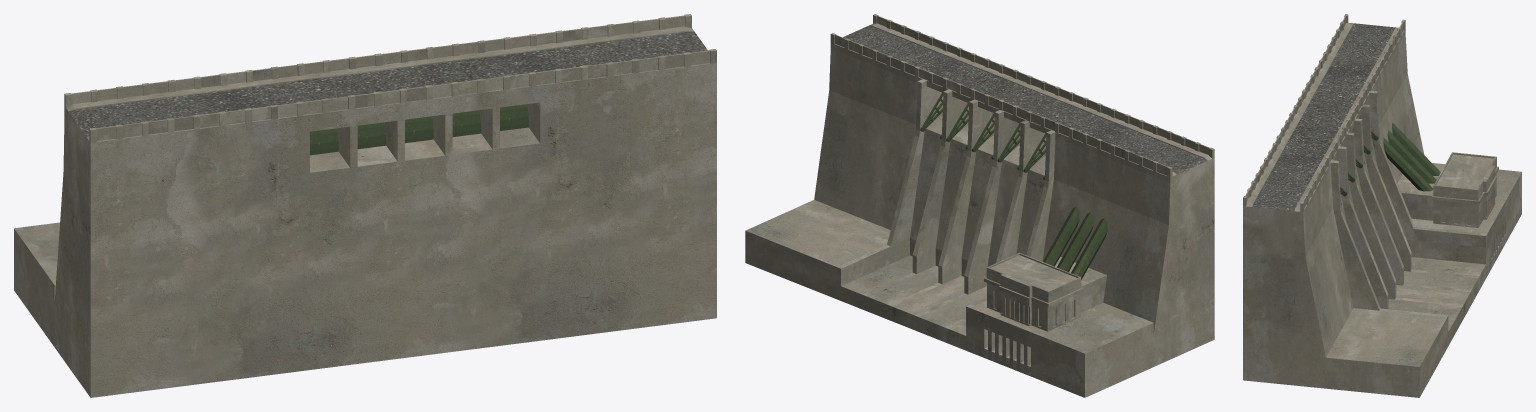
Rendered from dam-spillway.lod1.glb.
3 views of the same model, side by side, from view 1: azimuth 30°, elevation 25°; view 2: azimuth 150°, elevation 25°; view 3: azimuth 270°, elevation 25° (orthographic). The views are drawn at different scales.
Parts seen in each view (by area): view 1: Object_7, Object_12, Object_4; view 2: Object_7, Object_12, Object_4, Object_6; view 3: Object_7, Object_12, Object_4, Object_6.
Part boxes in pixels (bbox=[...]): Object_7: bbox=[14, 14, 716, 397]; Object_12: bbox=[68, 31, 707, 136]; Object_4: bbox=[310, 104, 528, 155]; Object_7: bbox=[745, 14, 1214, 397]; Object_12: bbox=[843, 26, 1207, 174]; Object_4: bbox=[920, 92, 1107, 279]; Object_6: bbox=[984, 278, 1083, 326]; Object_7: bbox=[1243, 14, 1521, 397]; Object_12: bbox=[1252, 23, 1395, 210]; Object_4: bbox=[1340, 123, 1440, 204]; Object_6: bbox=[1431, 167, 1498, 224].
Bounding box in the file's own units: 122 × 51.58 × 71.35.
4 materials, 4 textured.
